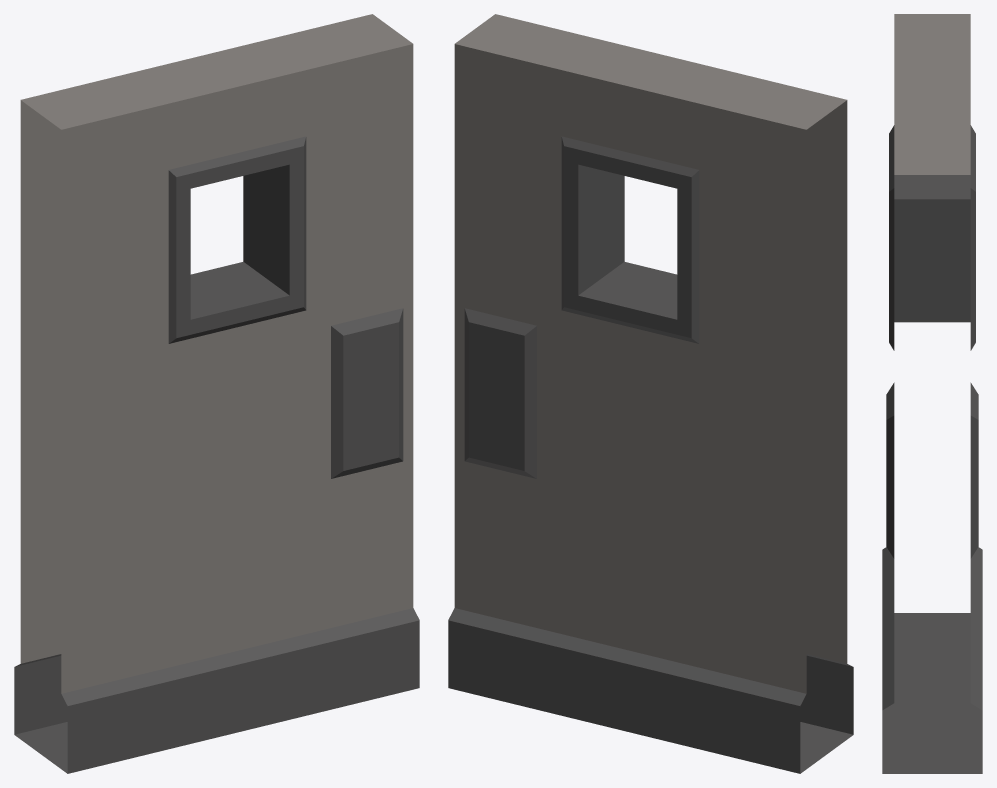
File: Door_filled.fbx
3 renders of one model, left to right at view 1: azimuth 30°, elevation 25°; view 2: azimuth 150°, elevation 25°; view 3: azimuth 270°, elevation 25°, orthographic. The views are drawn at different scales.
Visible parts, largest first — view 1: Wall_1.006; view 2: Wall_1.006; view 3: Wall_1.006.
Part boxes in pixels (bbox=[...]): Wall_1.006: bbox=[14, 14, 419, 773]; Wall_1.006: bbox=[448, 14, 853, 773]; Wall_1.006: bbox=[882, 14, 982, 773].
Size of the model in its own units: 130 by 225 by 34.16.
